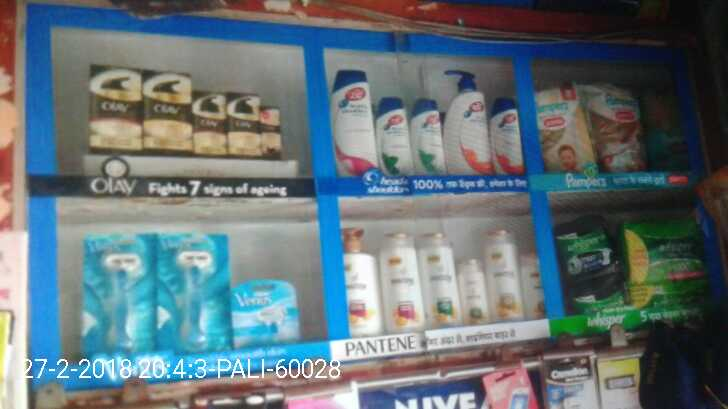venus: (77, 231, 156, 355), (156, 231, 229, 343), (229, 281, 288, 343)
